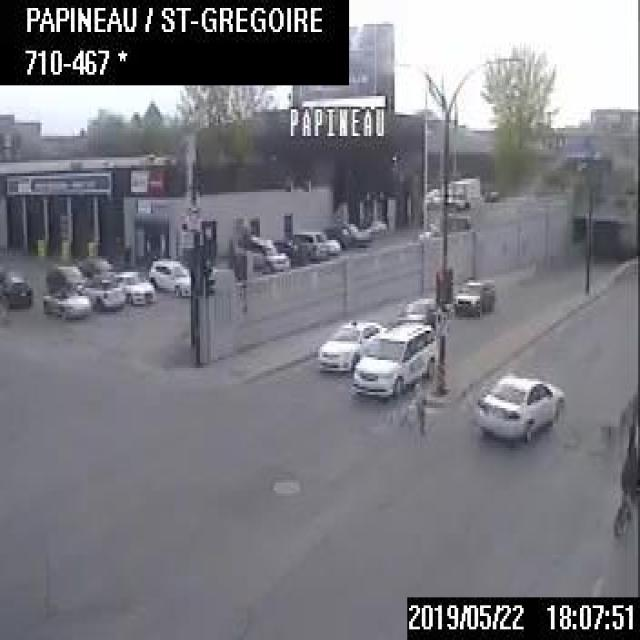vehicle: (348, 314, 440, 395), (474, 370, 562, 442), (314, 314, 386, 370), (38, 278, 91, 317), (240, 230, 288, 272), (78, 273, 125, 311), (452, 274, 494, 314), (115, 268, 153, 307), (150, 257, 188, 295), (292, 228, 343, 256), (42, 262, 86, 294), (0, 271, 35, 308), (392, 296, 434, 326), (324, 224, 366, 250), (77, 254, 113, 278)
